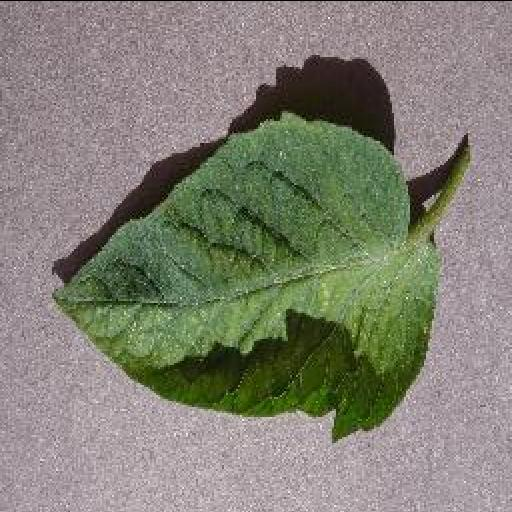disease_tomato: (50, 109, 440, 443)
